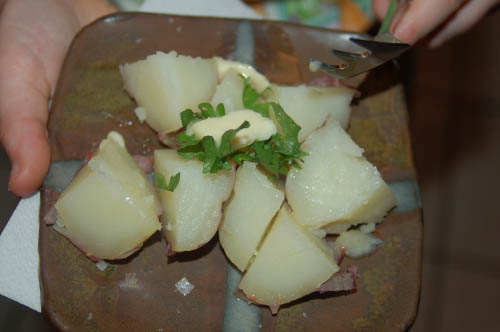boiled potatoes: (83, 68, 374, 286)
